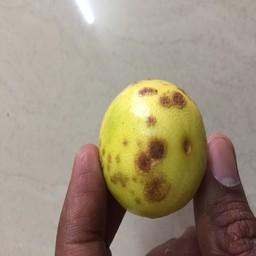Bad_lime: (98, 71, 211, 218)
